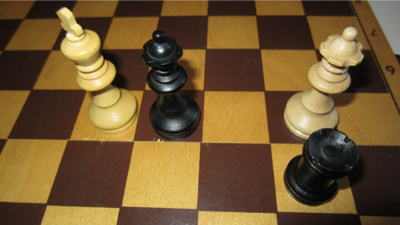black-queen: (142, 30, 202, 141)
black-rook: (284, 128, 361, 207)
white-king: (55, 7, 139, 135)
white-queen: (283, 27, 365, 141)
